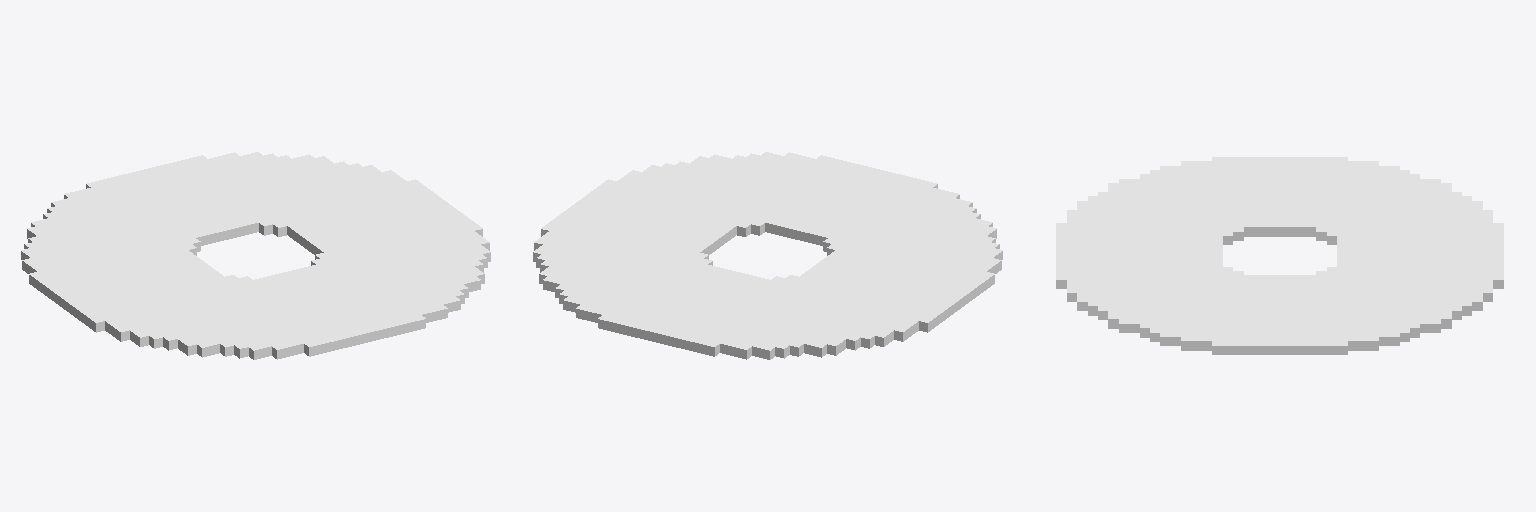
File: Dounet.obj
The picture shows the model from 3 angles: view 1: azimuth 30°, elevation 25°; view 2: azimuth 150°, elevation 25°; view 3: azimuth 270°, elevation 25°; orthographic projection.
Bounding box in the file's own units: 43 × 1 × 43.